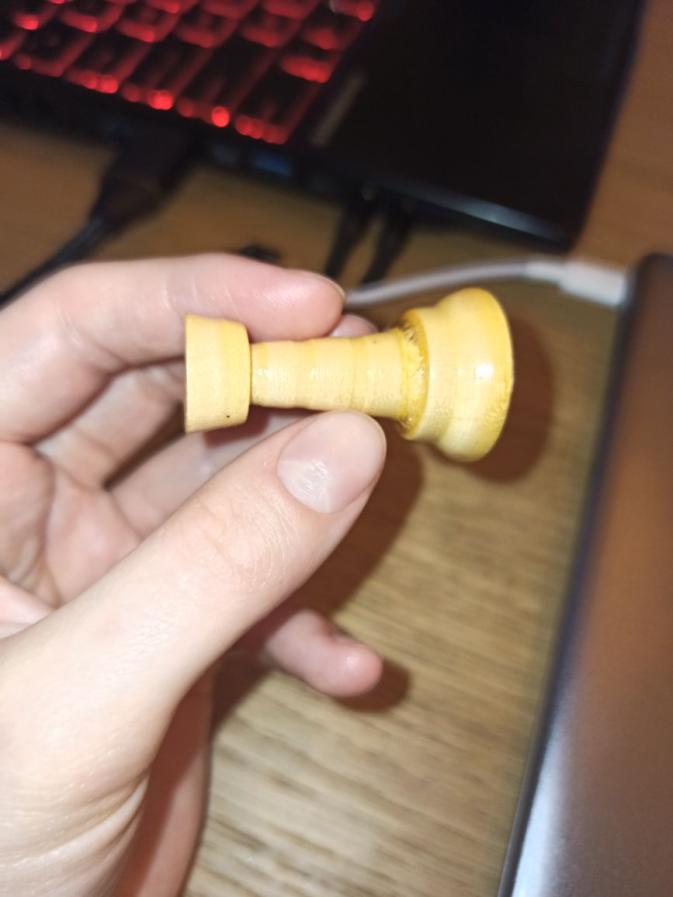wrook: (182, 286, 516, 465)
